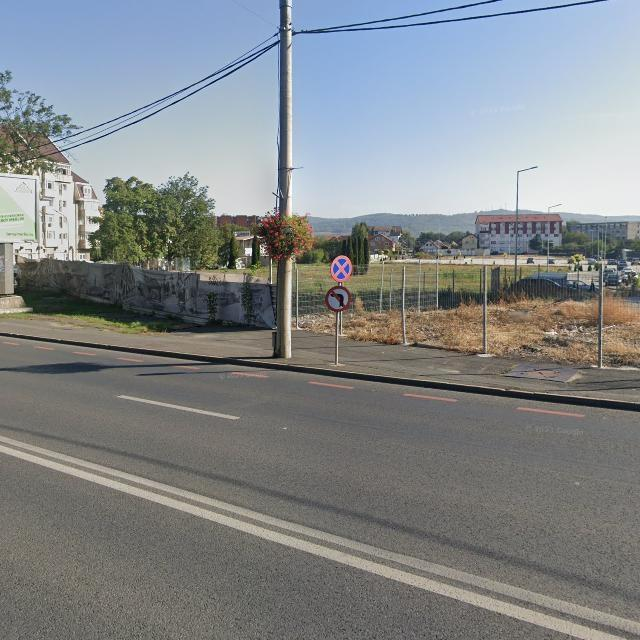forb_waiting: (330, 255, 353, 283)
